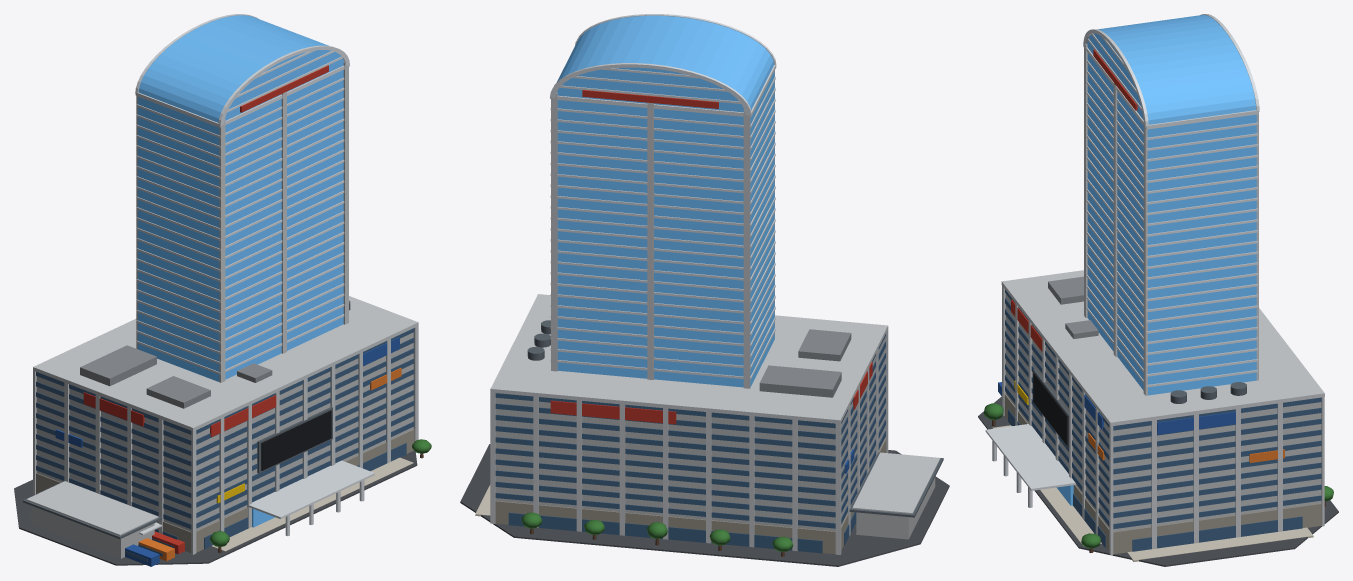
File: technomart.glb
The picture shows the model from 3 angles, left to right: view 1: azimuth 30°, elevation 25°; view 2: azimuth 150°, elevation 25°; view 3: azimuth 270°, elevation 25°; orthographic projection. The views are drawn at different scales.
Size of the model in its own units: 153 by 155 by 114.
